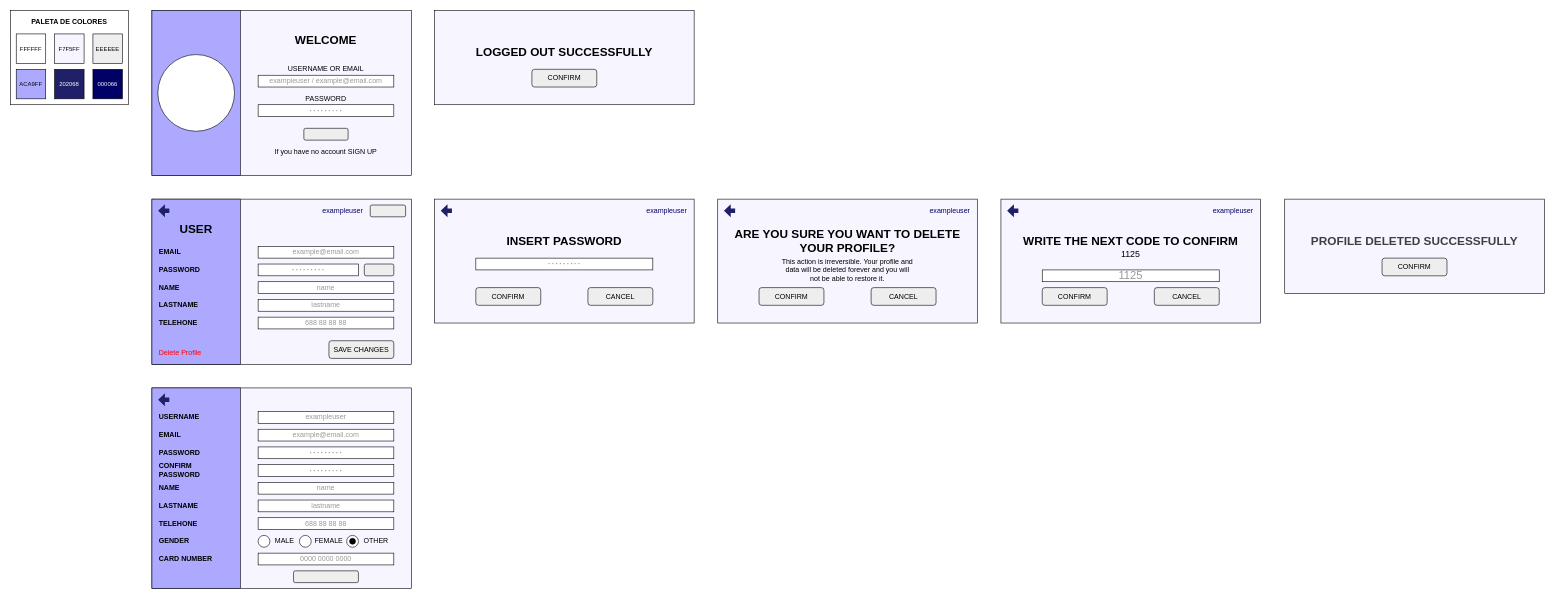
Image size: 1555x599. Some labels were removed from this diagram. Each missing label, with the centre of its shape:
"CHANGE" goes at (x=379, y=269).
"LOG IN" goes at (x=325, y=134).
"LOG OUT" goes at (x=388, y=210).
"LOGO" goes at (x=196, y=92).
"SIGN IN" goes at (x=325, y=576).
